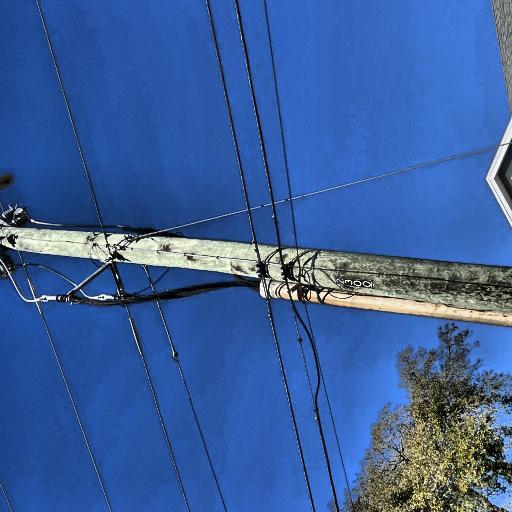pole: (28, 8, 172, 512)
